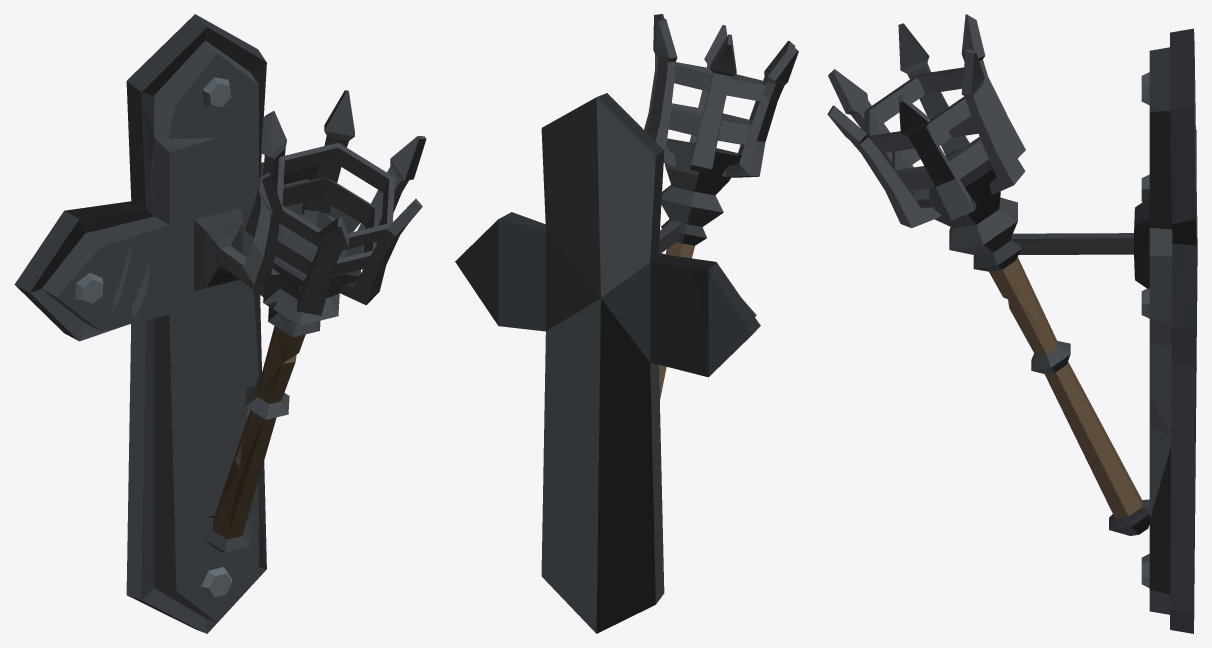
The model's file is crypt_torch.gltf.
3 renders of one model, left to right at view 1: azimuth 30°, elevation 25°; view 2: azimuth 150°, elevation 25°; view 3: azimuth 270°, elevation 25°, orthographic. The views are drawn at different scales.
Parts seen in each view (by area): view 1: crypt_torch; view 2: crypt_torch; view 3: crypt_torch.
Part boxes in pixels (x1,y1,x2,y2): crypt_torch: [14, 14, 426, 633]; crypt_torch: [455, 14, 798, 633]; crypt_torch: [827, 14, 1197, 633].
Bounding box in the file's own units: 0.7561 × 1.3 × 0.7219.
Materials: 1 (1 with a texture image).
